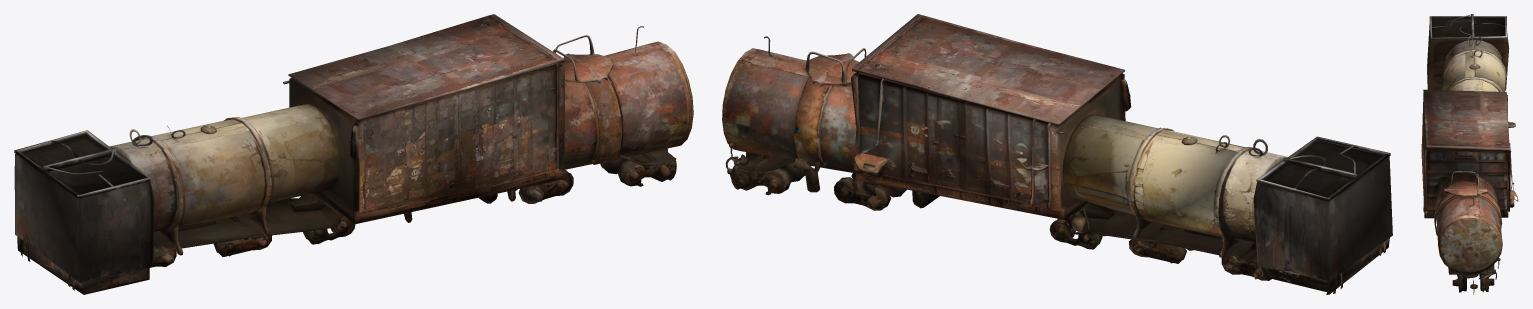
3 renders of one model, left to right at view 1: azimuth 30°, elevation 25°; view 2: azimuth 150°, elevation 25°; view 3: azimuth 270°, elevation 25°, orthographic. The views are drawn at different scales.
Visible parts, largest first — view 1: tripo_node_36cce3b6-ef8f-4bce-8a9c-71002f0b9110; view 2: tripo_node_36cce3b6-ef8f-4bce-8a9c-71002f0b9110; view 3: tripo_node_36cce3b6-ef8f-4bce-8a9c-71002f0b9110.
Part boxes in pixels (x1,y1,x2,y2): tripo_node_36cce3b6-ef8f-4bce-8a9c-71002f0b9110: [14, 14, 693, 294]; tripo_node_36cce3b6-ef8f-4bce-8a9c-71002f0b9110: [722, 14, 1392, 294]; tripo_node_36cce3b6-ef8f-4bce-8a9c-71002f0b9110: [1421, 14, 1518, 294].
Size of the model in its own units: 0.9995 by 0.2661 by 0.2183.
Materials: 1 (1 with a texture image).
